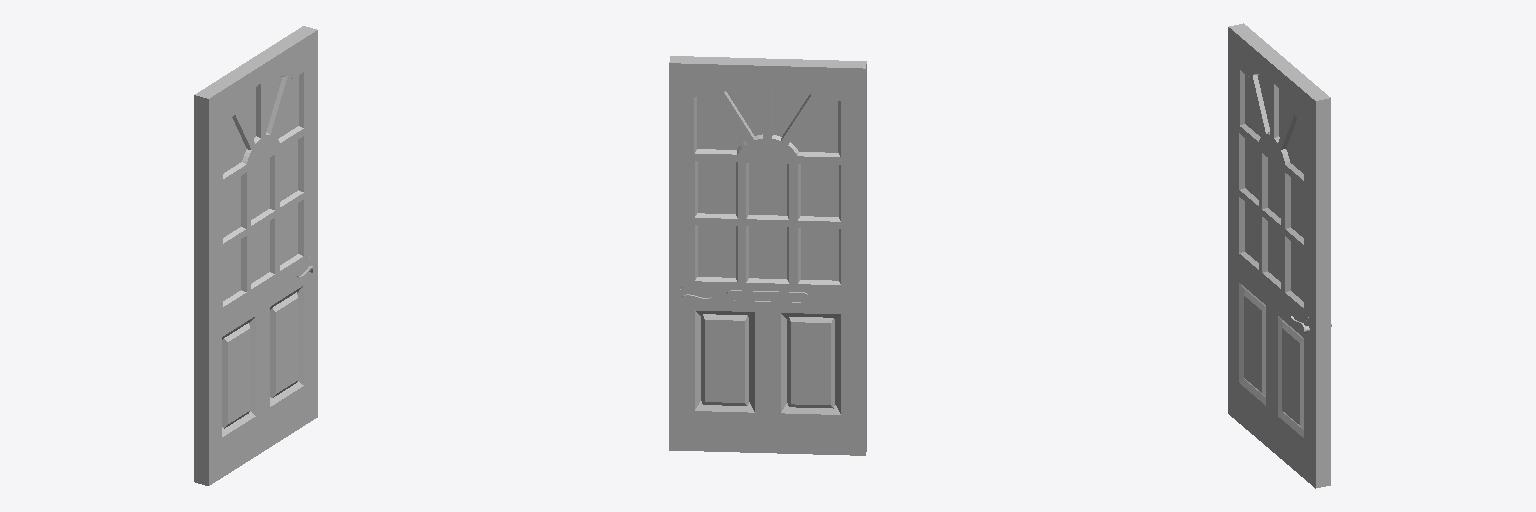
The model's file is door2_000008.obj.
3 renders of one model, left to right at view 1: azimuth 30°, elevation 25°; view 2: azimuth 150°, elevation 25°; view 3: azimuth 270°, elevation 25°, orthographic.
Visible parts, largest first — view 1: Door.000_Door.004; view 2: Door.000_Door.004; view 3: Door.000_Door.004.
Part boxes in pixels (left/top/right/bottom): Door.000_Door.004: left=194, top=26, right=317, bottom=485; Door.000_Door.004: left=669, top=56, right=866, bottom=455; Door.000_Door.004: left=1228, top=23, right=1331, bottom=488.
Size of the model in its own units: 0.6918 by 1.6 by 0.3876.